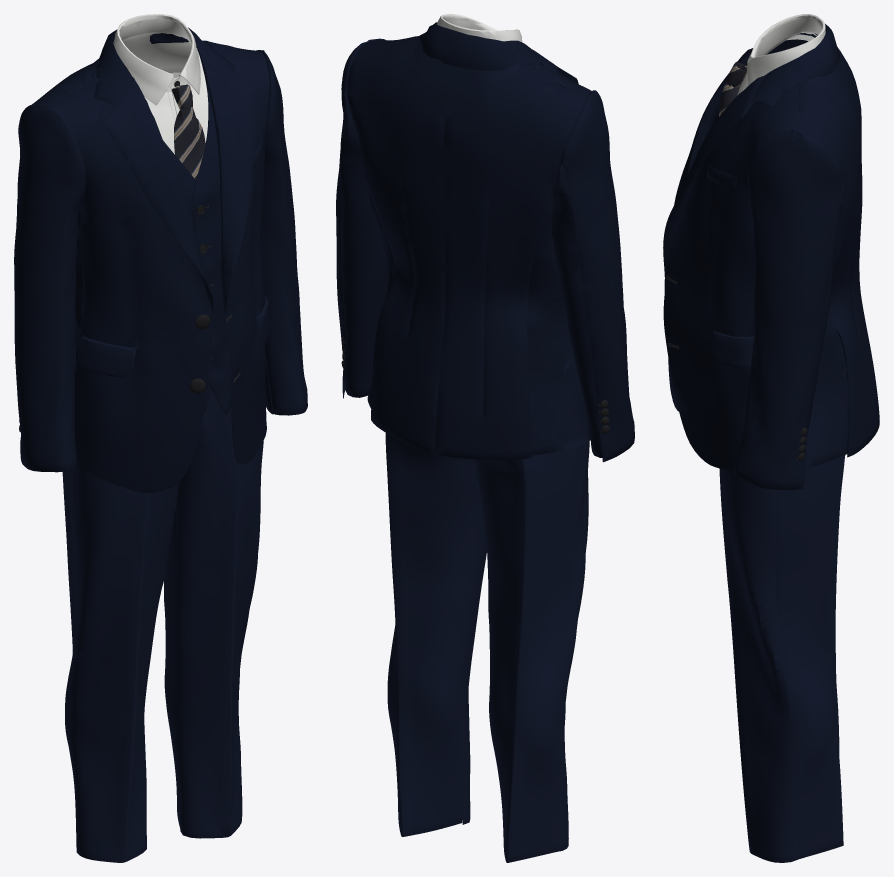
File: MW_Tailleur_suit_v4_blender_collarfix4_notch_only.glb
The picture shows the model from 3 angles, left to right: view 1: azimuth 30°, elevation 25°; view 2: azimuth 150°, elevation 25°; view 3: azimuth 270°, elevation 25°; orthographic projection. The views are drawn at different scales.
Visible parts, largest first — view 1: Jacket, Trousers, Shirt, Waistcoat, Tie, Trim; view 2: Jacket, Trousers, Shirt, Waistcoat; view 3: Jacket, Trousers, Shirt, Tie.
Part boxes in pixels (left/top/right/bottom): Jacket: left=14, top=27, right=307, bottom=492; Trousers: left=62, top=383, right=263, bottom=862; Shirt: left=113, top=14, right=208, bottom=154; Waistcoat: left=75, top=58, right=231, bottom=413; Tie: left=172, top=84, right=205, bottom=179; Trim: left=19, top=81, right=210, bottom=432; Jacket: left=336, top=22, right=634, bottom=462; Trousers: left=385, top=339, right=589, bottom=862; Shirt: left=437, top=14, right=522, bottom=41; Waistcoat: left=414, top=41, right=521, bottom=81; Jacket: left=663, top=24, right=879, bottom=489; Trousers: left=719, top=455, right=845, bottom=862; Shirt: left=737, top=14, right=825, bottom=95; Tie: left=719, top=62, right=746, bottom=116.
Bounding box in the file's own units: 0.5389 × 1.5 × 0.3678.
Materials: 8 (4 with a texture image).
